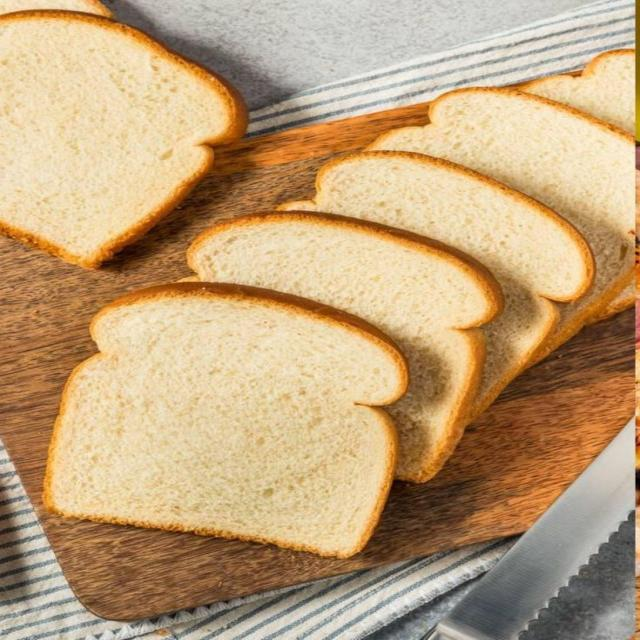sliced_bread: (45, 283, 407, 556), (188, 212, 502, 481), (280, 152, 593, 414), (371, 89, 634, 356), (0, 11, 246, 267), (522, 49, 635, 135), (524, 49, 635, 135), (0, 0, 112, 17)
